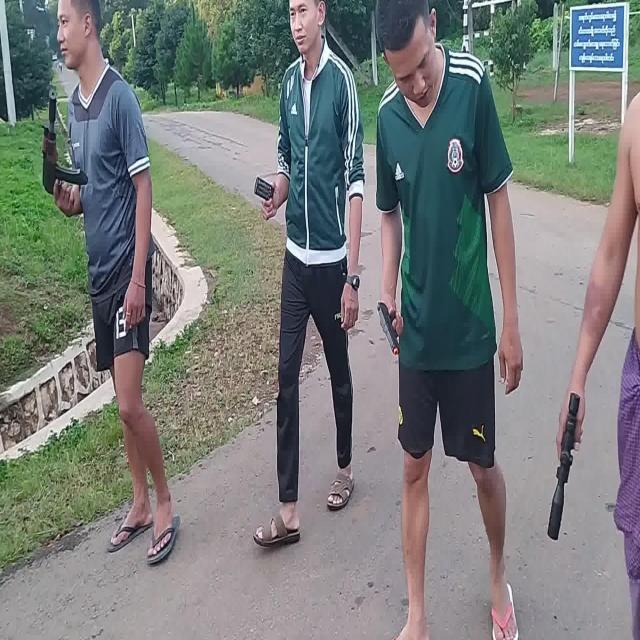gun: (43, 90, 88, 196), (377, 301, 400, 355)
